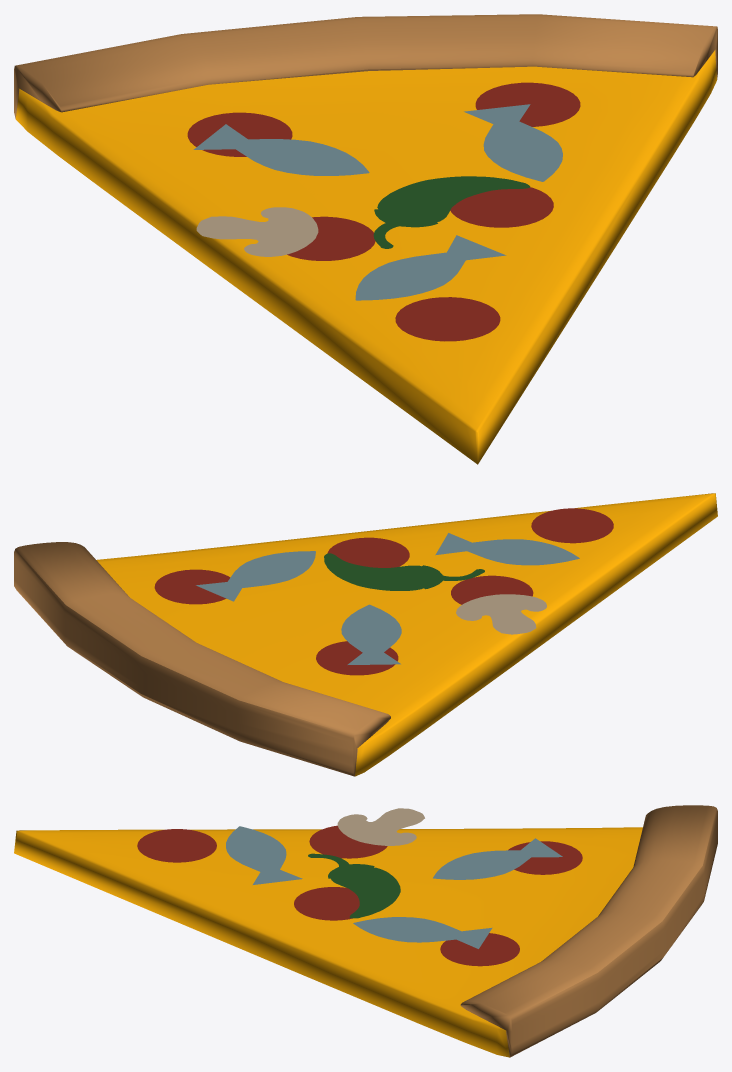
Rendered from Pizza slice.fbx.
The picture shows the model from 3 angles, top to bottom: view 1: azimuth 30°, elevation 25°; view 2: azimuth 150°, elevation 25°; view 3: azimuth 270°, elevation 25°; orthographic projection. The views are drawn at different scales.
Visible parts, largest first — view 1: Pizza, Pepperoni, Sardines, Jalapenos, Mushrooms; view 2: Pizza, Pepperoni, Sardines, Jalapenos, Mushrooms; view 3: Pizza, Pepperoni, Sardines, Jalapenos, Mushrooms.
Part boxes in pixels (box(x1,y1,x2,y2)): Pizza: box(14, 14, 717, 464); Pepperoni: box(187, 82, 580, 341); Sardines: box(193, 104, 562, 300); Jalapenos: box(373, 176, 530, 248); Mushrooms: box(196, 207, 318, 256); Pizza: box(14, 493, 717, 776); Pepperoni: box(154, 508, 613, 675); Sardines: box(196, 533, 579, 664); Jalapenos: box(324, 553, 484, 590); Mushrooms: box(456, 594, 546, 634); Pizza: box(14, 805, 717, 1057); Pepperoni: box(137, 825, 582, 966); Sardines: box(226, 826, 562, 948); Jalapenos: box(308, 853, 400, 918); Mushrooms: box(337, 808, 424, 845).
Size of the model in its own units: 11.79 by 1.21 by 16.04.
